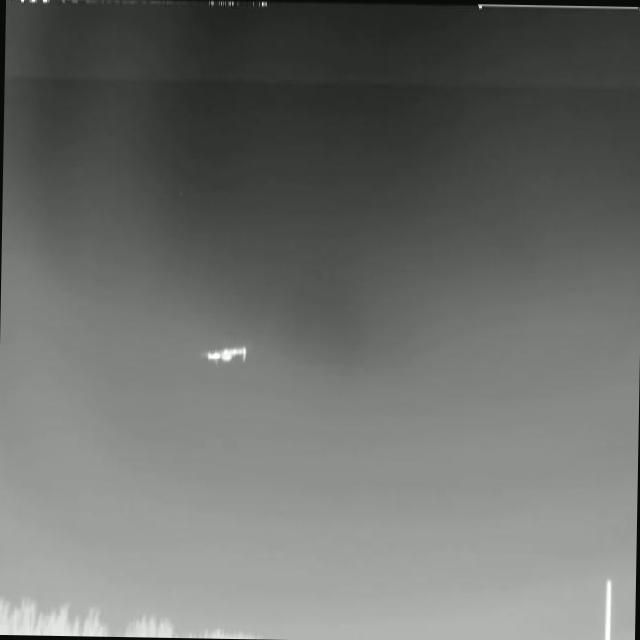DRONE: (190, 334, 254, 376)
